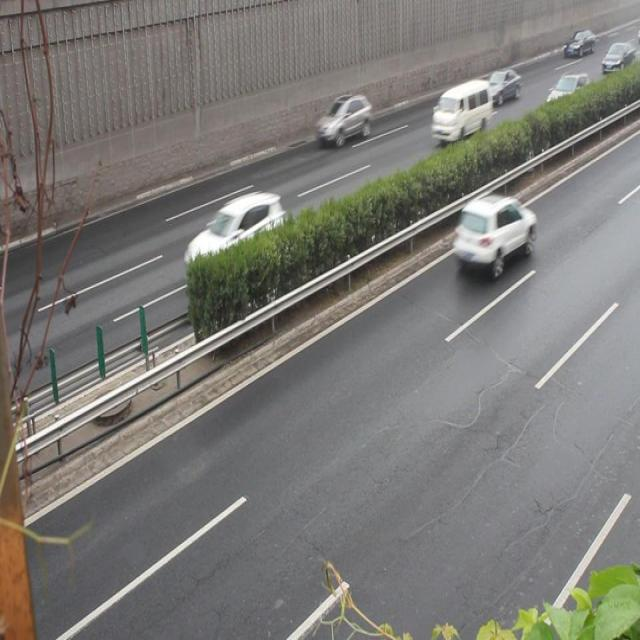car: (183, 191, 286, 282), (449, 193, 534, 270), (316, 94, 371, 146), (482, 68, 518, 100)
